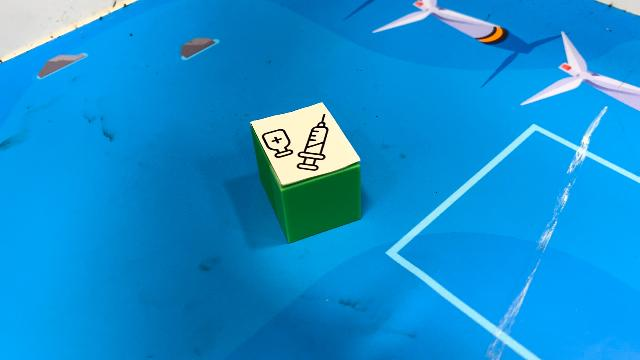syringe: (250, 101, 362, 243)
